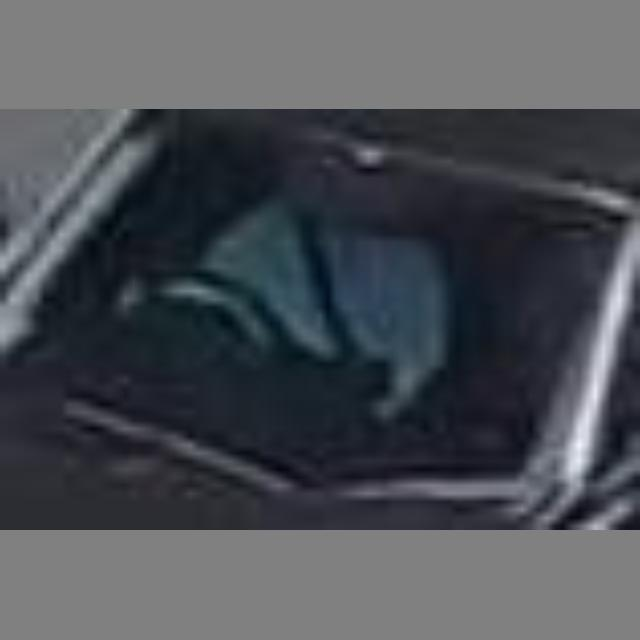pakai: (113, 174, 462, 449)
